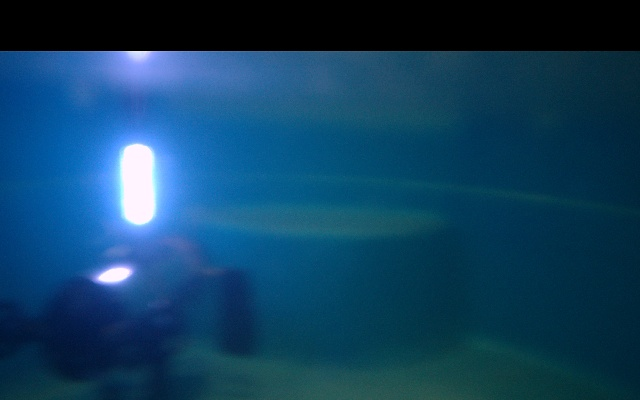white: (119, 142, 156, 229)
